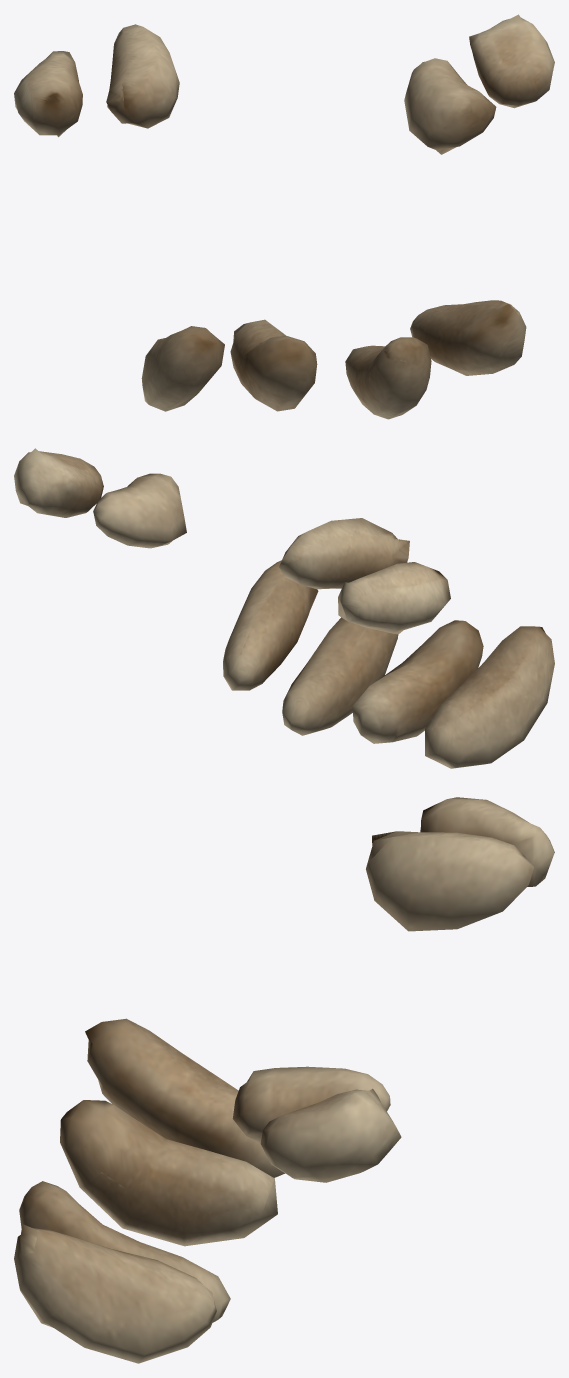
Rendered from Proximal Sesamoid.glb.
3 renders of one model, top to bottom at view 1: azimuth 30°, elevation 25°; view 2: azimuth 150°, elevation 25°; view 3: azimuth 270°, elevation 25°, orthographic. The views are drawn at different scales.
Visible parts, largest first — view 1: polySurface75, polySurface74, polySurface79, polySurface73, polySurface77, polySurface76, polySurface78, polySurface80; view 2: polySurface78, polySurface77, polySurface76, polySurface75, polySurface79, polySurface80, polySurface74, polySurface73; view 3: polySurface77, polySurface75, polySurface78, polySurface79, polySurface73, polySurface74, polySurface76, polySurface80.
Boxes of the visible parts, left/top/right/bottom form: polySurface75: left=410, top=300, right=526, bottom=375; polySurface74: left=404, top=58, right=496, bottom=154; polySurface79: left=106, top=24, right=179, bottom=128; polySurface73: left=469, top=14, right=554, bottom=108; polySurface77: left=230, top=319, right=317, bottom=411; polySurface76: left=345, top=337, right=431, bottom=419; polySurface78: left=141, top=326, right=224, bottom=411; polySurface80: left=14, top=51, right=82, bottom=137; polySurface78: left=425, top=626, right=554, bottom=768; polySurface77: left=352, top=620, right=483, bottom=743; polySurface76: left=282, top=617, right=398, bottom=735; polySurface75: left=223, top=560, right=318, bottom=690; polySurface79: left=279, top=518, right=409, bottom=589; polySurface80: left=338, top=562, right=450, bottom=634; polySurface74: left=93, top=473, right=186, bottom=548; polySurface73: left=14, top=448, right=103, bottom=517; polySurface77: left=60, top=1100, right=277, bottom=1246; polySurface75: left=14, top=1224, right=216, bottom=1363; polySurface78: left=85, top=1018, right=284, bottom=1177; polySurface79: left=366, top=831, right=534, bottom=931; polySurface73: left=260, top=1088, right=401, bottom=1182; polySurface74: left=232, top=1066, right=390, bottom=1143; polySurface76: left=19, top=1181, right=230, bottom=1322; polySurface80: left=420, top=797, right=554, bottom=886.
Bounding box in the file's own units: 29.27 × 18.55 × 21.61.
1 material, 1 textured.
